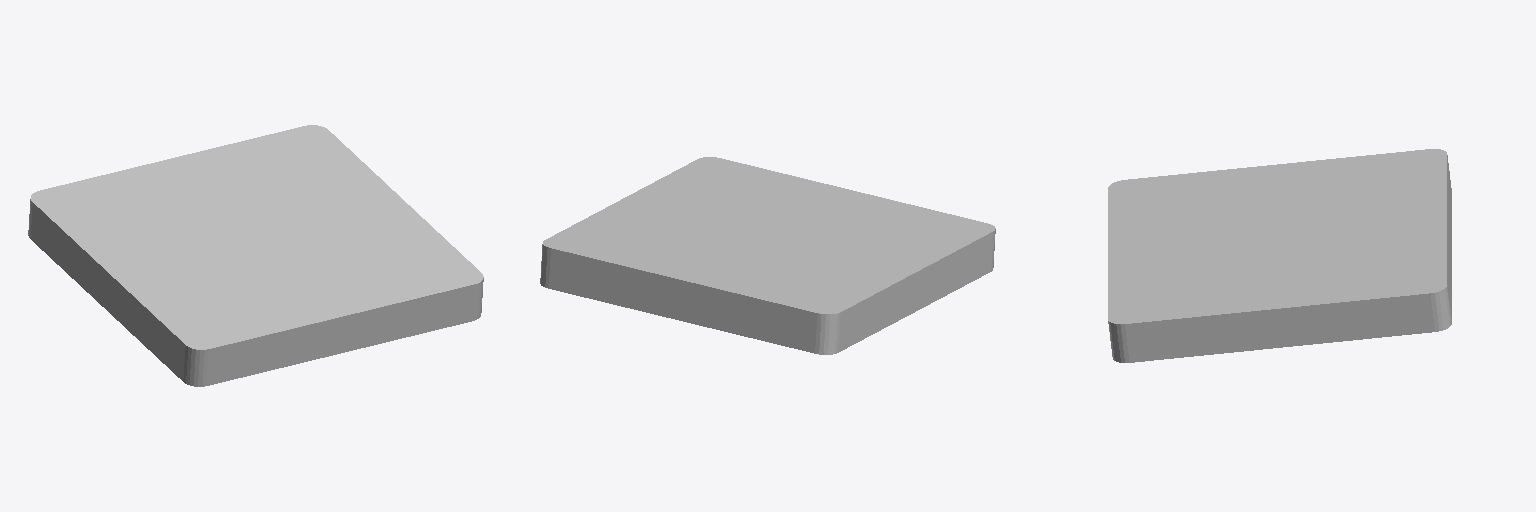
Rendered from original-23.obj.
3 renders of one model, left to right at view 1: azimuth 30°, elevation 25°; view 2: azimuth 150°, elevation 25°; view 3: azimuth 270°, elevation 25°, orthographic.
Parts seen in each view (by area): view 1: mesh22/mesh22-geometry#mesh22-geometry; view 2: mesh22/mesh22-geometry#mesh22-geometry; view 3: mesh22/mesh22-geometry#mesh22-geometry.
Boxes of the visible parts, <box> form: mesh22/mesh22-geometry#mesh22-geometry: <box>28,125,483,386</box>; mesh22/mesh22-geometry#mesh22-geometry: <box>540,157,995,354</box>; mesh22/mesh22-geometry#mesh22-geometry: <box>1108,149,1451,362</box>.
Size of the model in its own units: 0.1011 by 0.0238 by 0.1019.